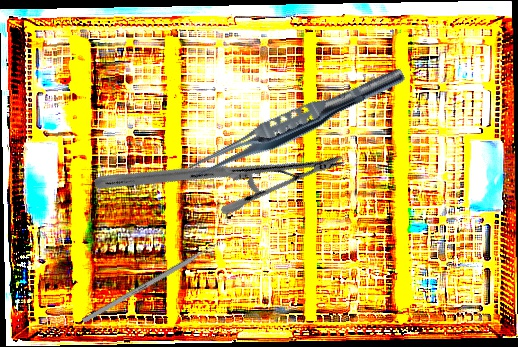Needle Holder: (92, 58, 346, 286)
Pusher: (81, 234, 232, 324)
Tissue Forceps: (182, 57, 409, 190)
